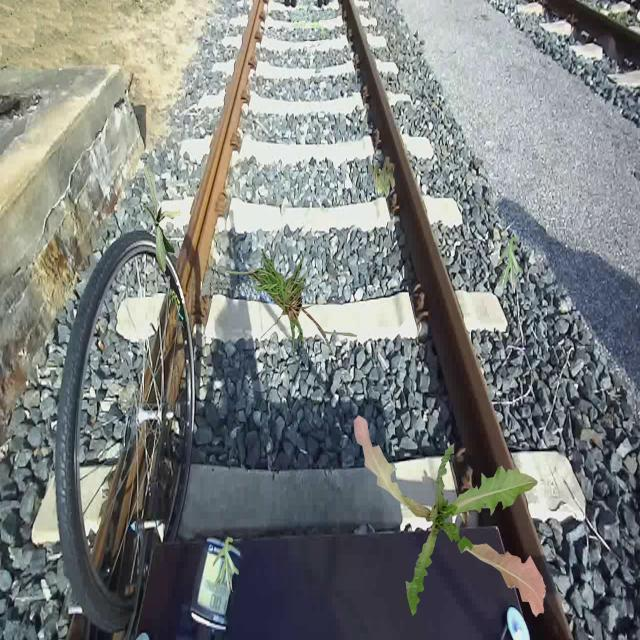Plant: (353, 415, 546, 618), (214, 248, 358, 368), (142, 164, 182, 274), (213, 536, 240, 592), (497, 236, 524, 292), (370, 156, 396, 198)
